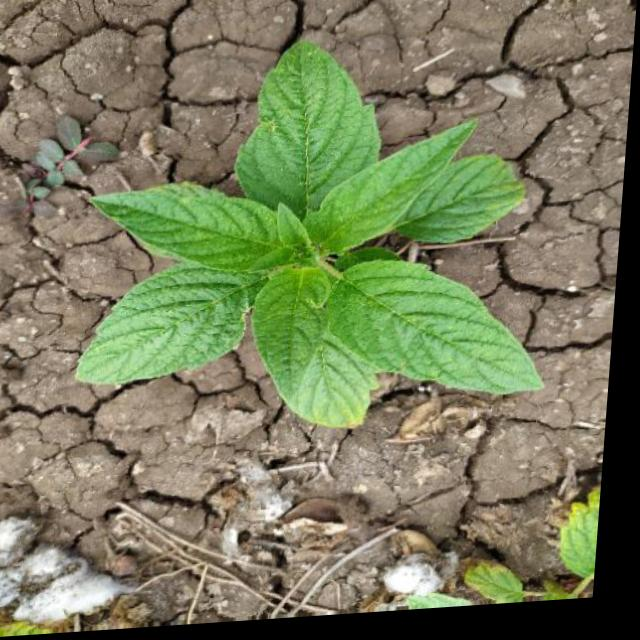crop: (79, 37, 576, 447)
